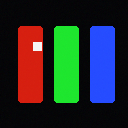1 square: (33, 42, 41, 50)
